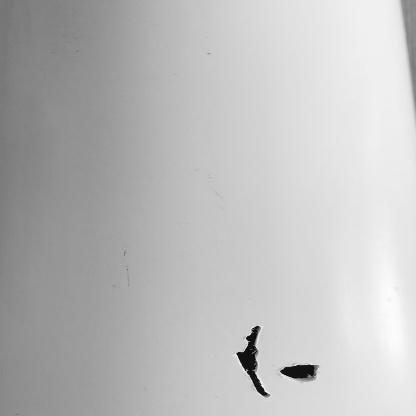kongdong: (232, 322, 270, 400), (278, 362, 320, 383)
